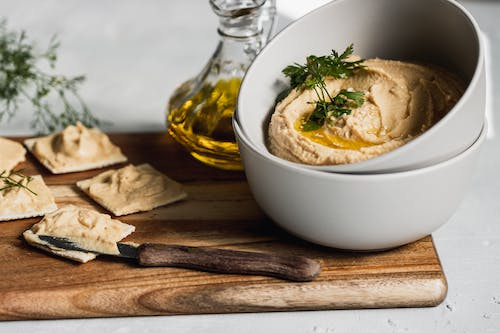knife: (23, 232, 322, 283)
